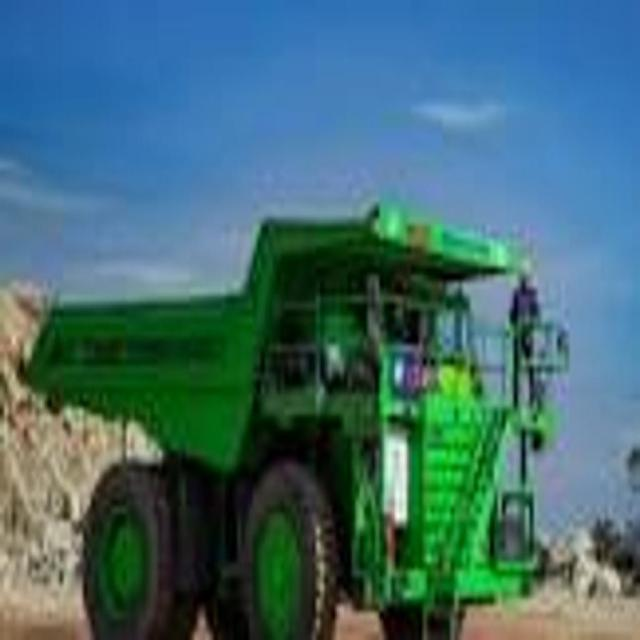dump_truck: (12, 192, 560, 640)
